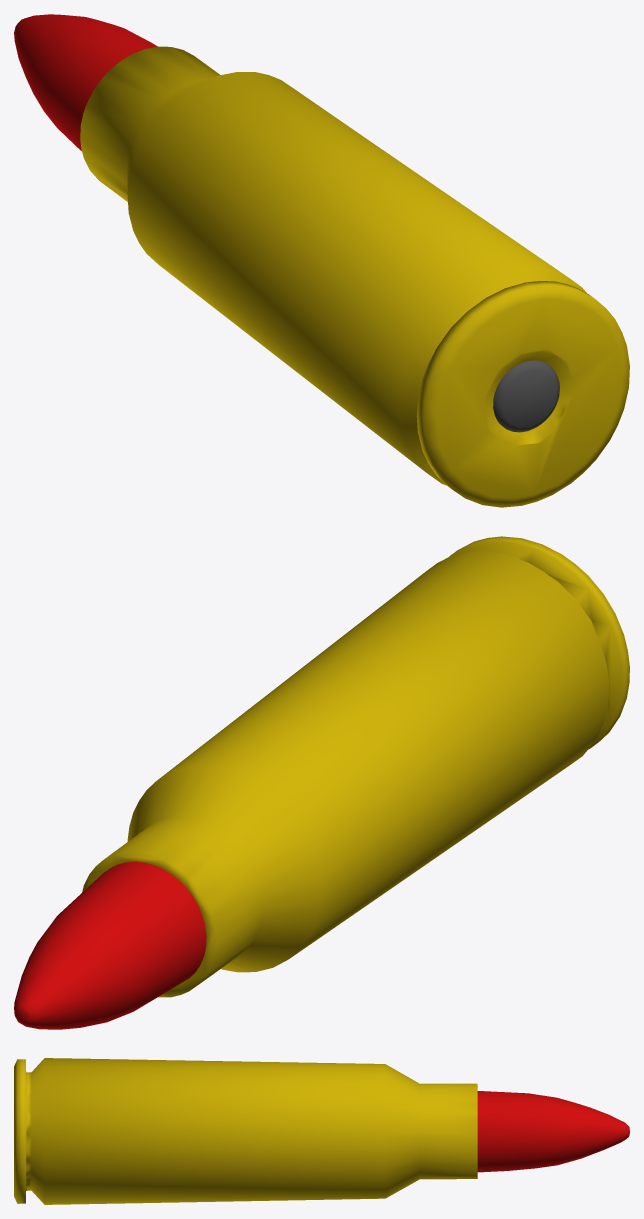
The model's file is Pistol.obj.
3 renders of one model, top to bottom at view 1: azimuth 30°, elevation 25°; view 2: azimuth 150°, elevation 25°; view 3: azimuth 270°, elevation 25°, orthographic. The views are drawn at different scales.
Parts seen in each view (by area): view 1: Model; view 2: Model; view 3: Model.
Part boxes in pixels (x1,y1,x2,y2): Model: (14, 14, 629, 507); Model: (14, 536, 629, 1029); Model: (14, 1058, 629, 1204).
Size of the model in its own units: 0.4881 by 0.4881 by 2.04.
